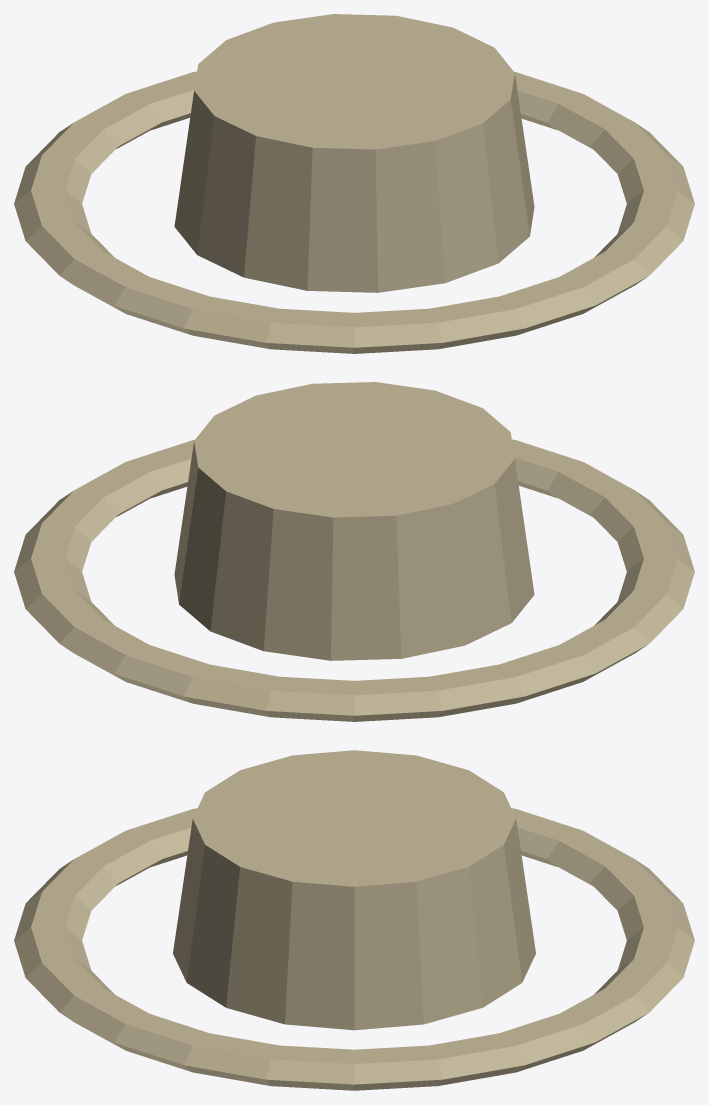
File: StrawHat.fbx
The picture shows the model from 3 angles, top to bottom: view 1: azimuth 30°, elevation 25°; view 2: azimuth 150°, elevation 25°; view 3: azimuth 270°, elevation 25°; orthographic projection.
Visible parts, largest first — view 1: StrawHat; view 2: StrawHat; view 3: StrawHat.
Boxes of the visible parts, <box> form: StrawHat: <box>14,14,694,353</box>; StrawHat: <box>14,382,694,721</box>; StrawHat: <box>14,750,694,1090</box>.
Bounding box in the file's own units: 26.88 × 5.9 × 26.88.
